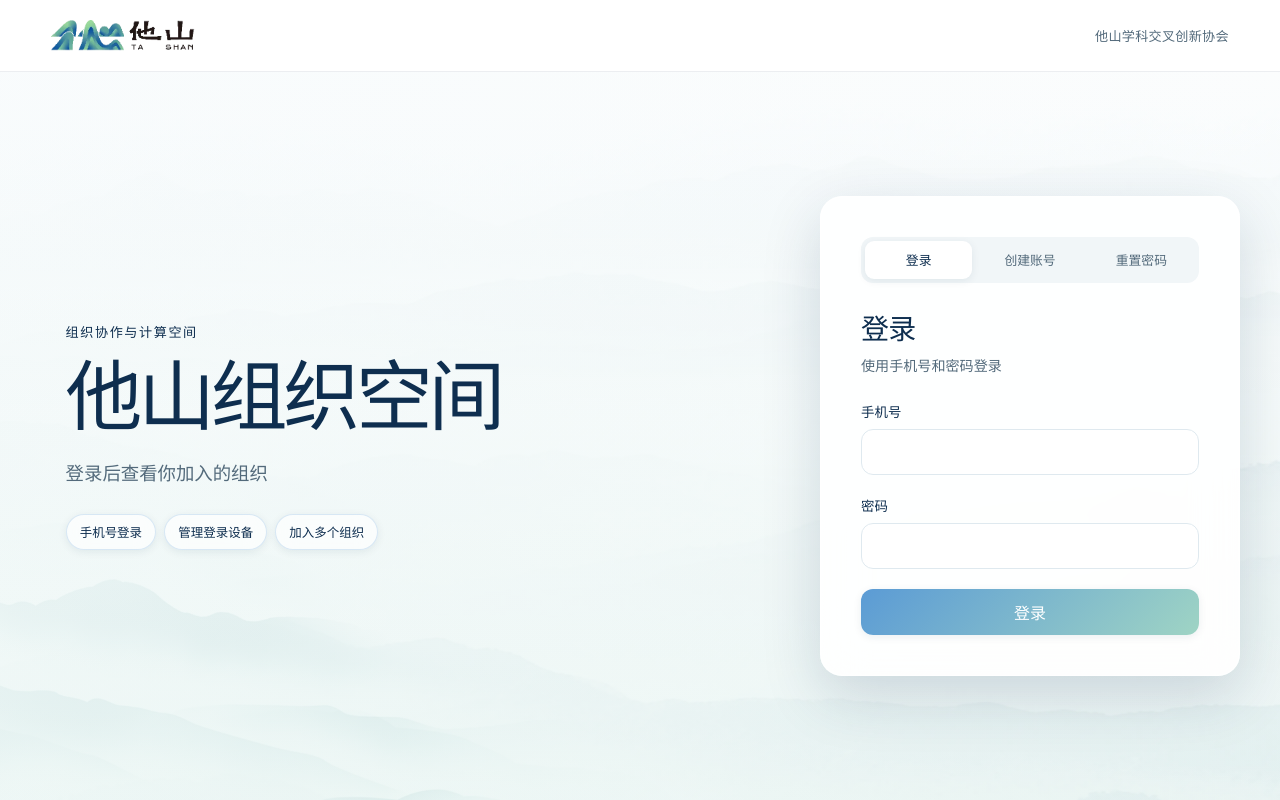
Scenario: routed Phase 0 Web › mounts the 个人文件 list and detail route
expect the heading "登录" is shown: met, box [861, 312, 915, 346]
In the field labelled "手机号": (1030, 452) [861, 429, 1199, 475], type "13800138000"
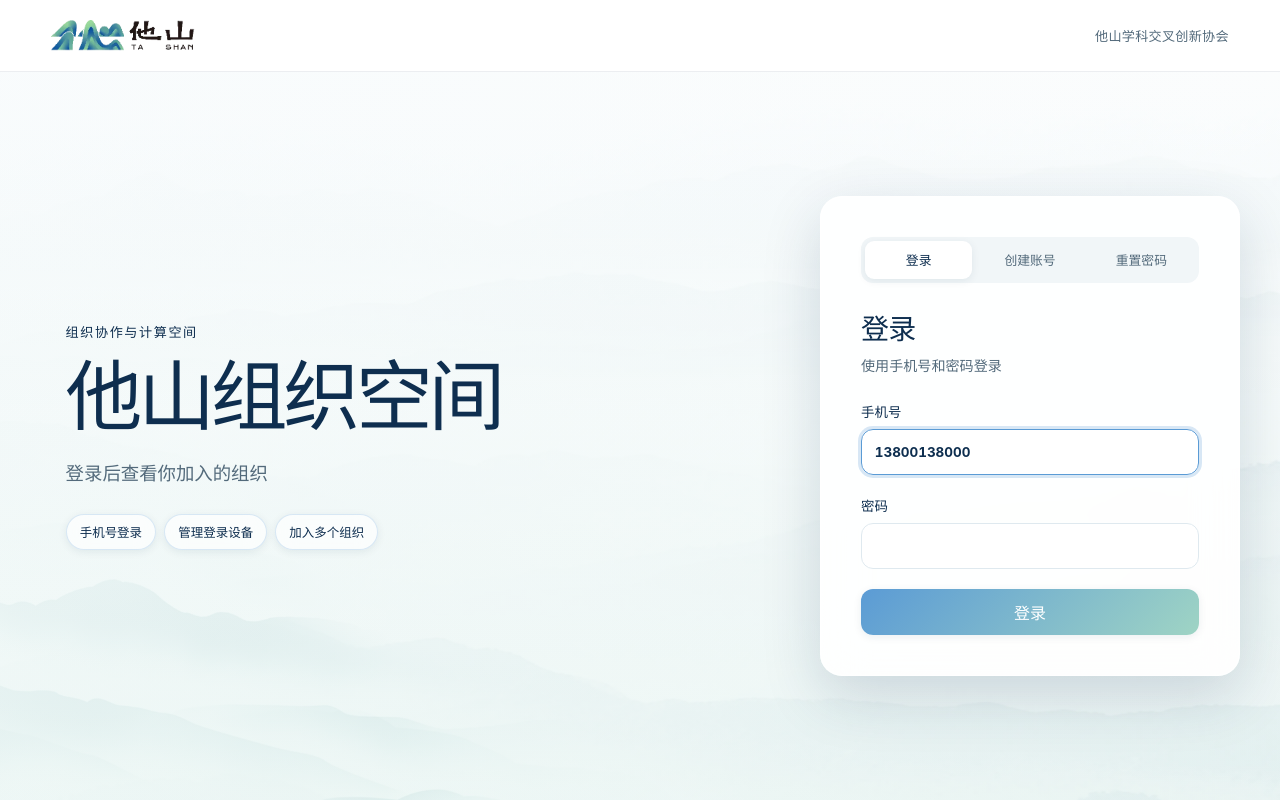
In the password field labelled "密码": (1030, 546) [861, 523, 1199, 569], type "CorrectHorseBattery9"
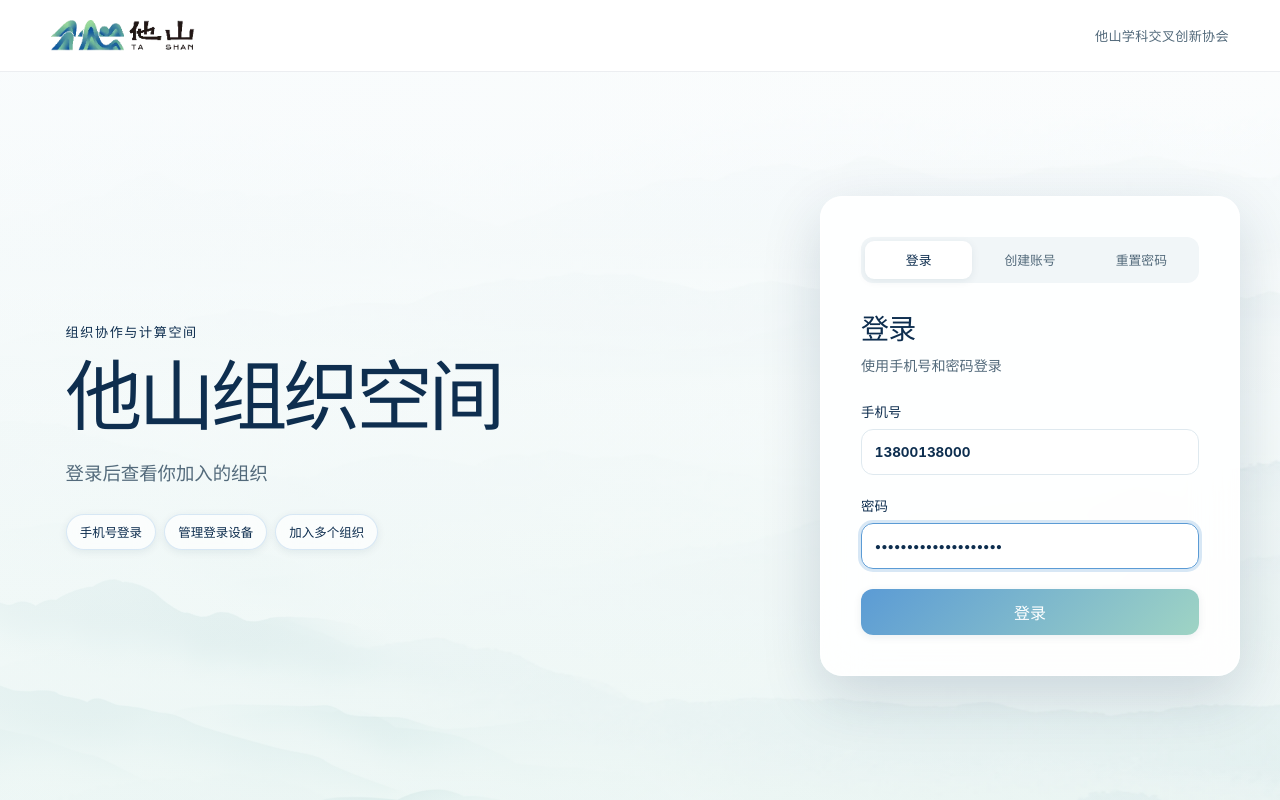
Click the button "登录": click(1030, 612) [861, 589, 1199, 635]
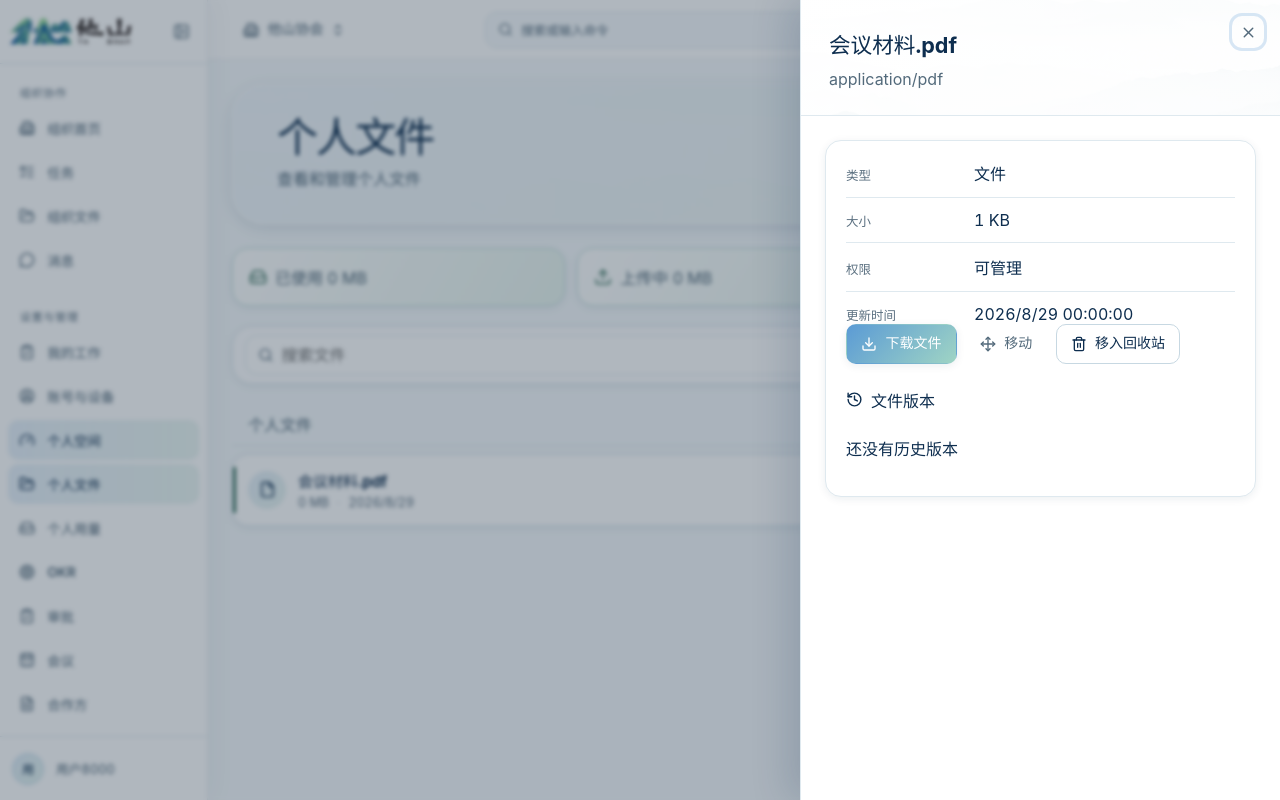
expect the heading "个人文件" is shown: met, box [277, 115, 434, 159]
expect the dialog "会议材料.pdf" is shown: met, box [800, 0, 1279, 799]
